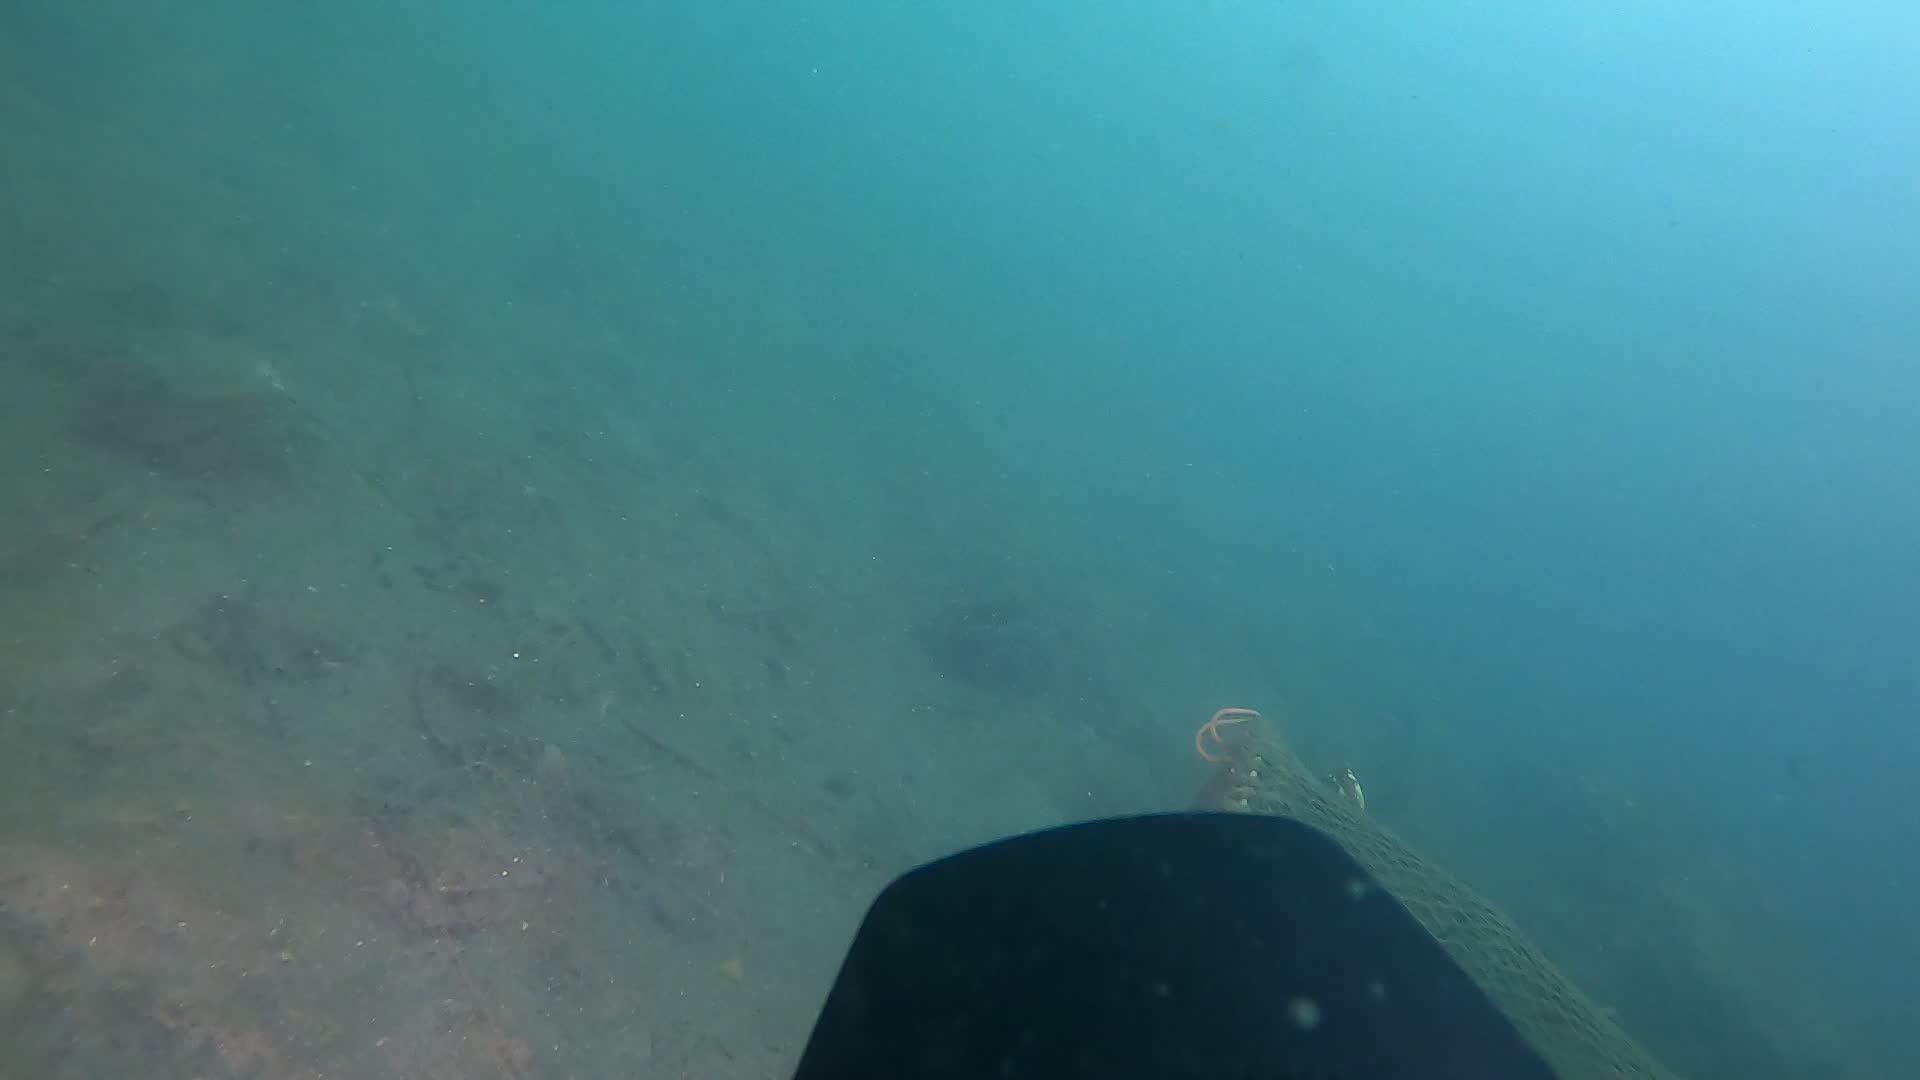spring fish trap: (1197, 717, 1652, 1080)
